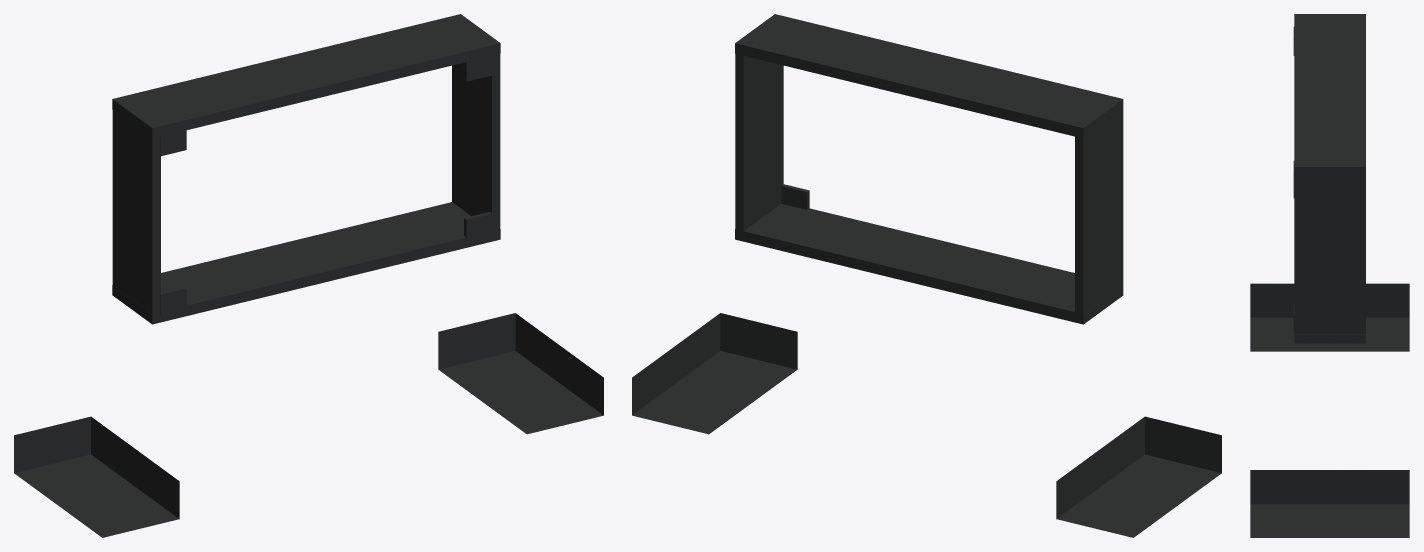
Rendered from select_peace.obj.
The picture shows the model from 3 angles, left to right: view 1: azimuth 30°, elevation 25°; view 2: azimuth 150°, elevation 25°; view 3: azimuth 270°, elevation 25°; orthographic projection. The views are drawn at different scales.
Visible parts, largest first — view 1: 立方体.040; view 2: 立方体.040; view 3: 立方体.040.
Part boxes in pixels (x1,y1,x2,y2): 立方体.040: (14,14,603,537); 立方体.040: (632,14,1221,537); 立方体.040: (1250,14,1409,537).
Size of the model in its own units: 202 by 144 by 61.56.
Materials: 1 (1 with a texture image).
